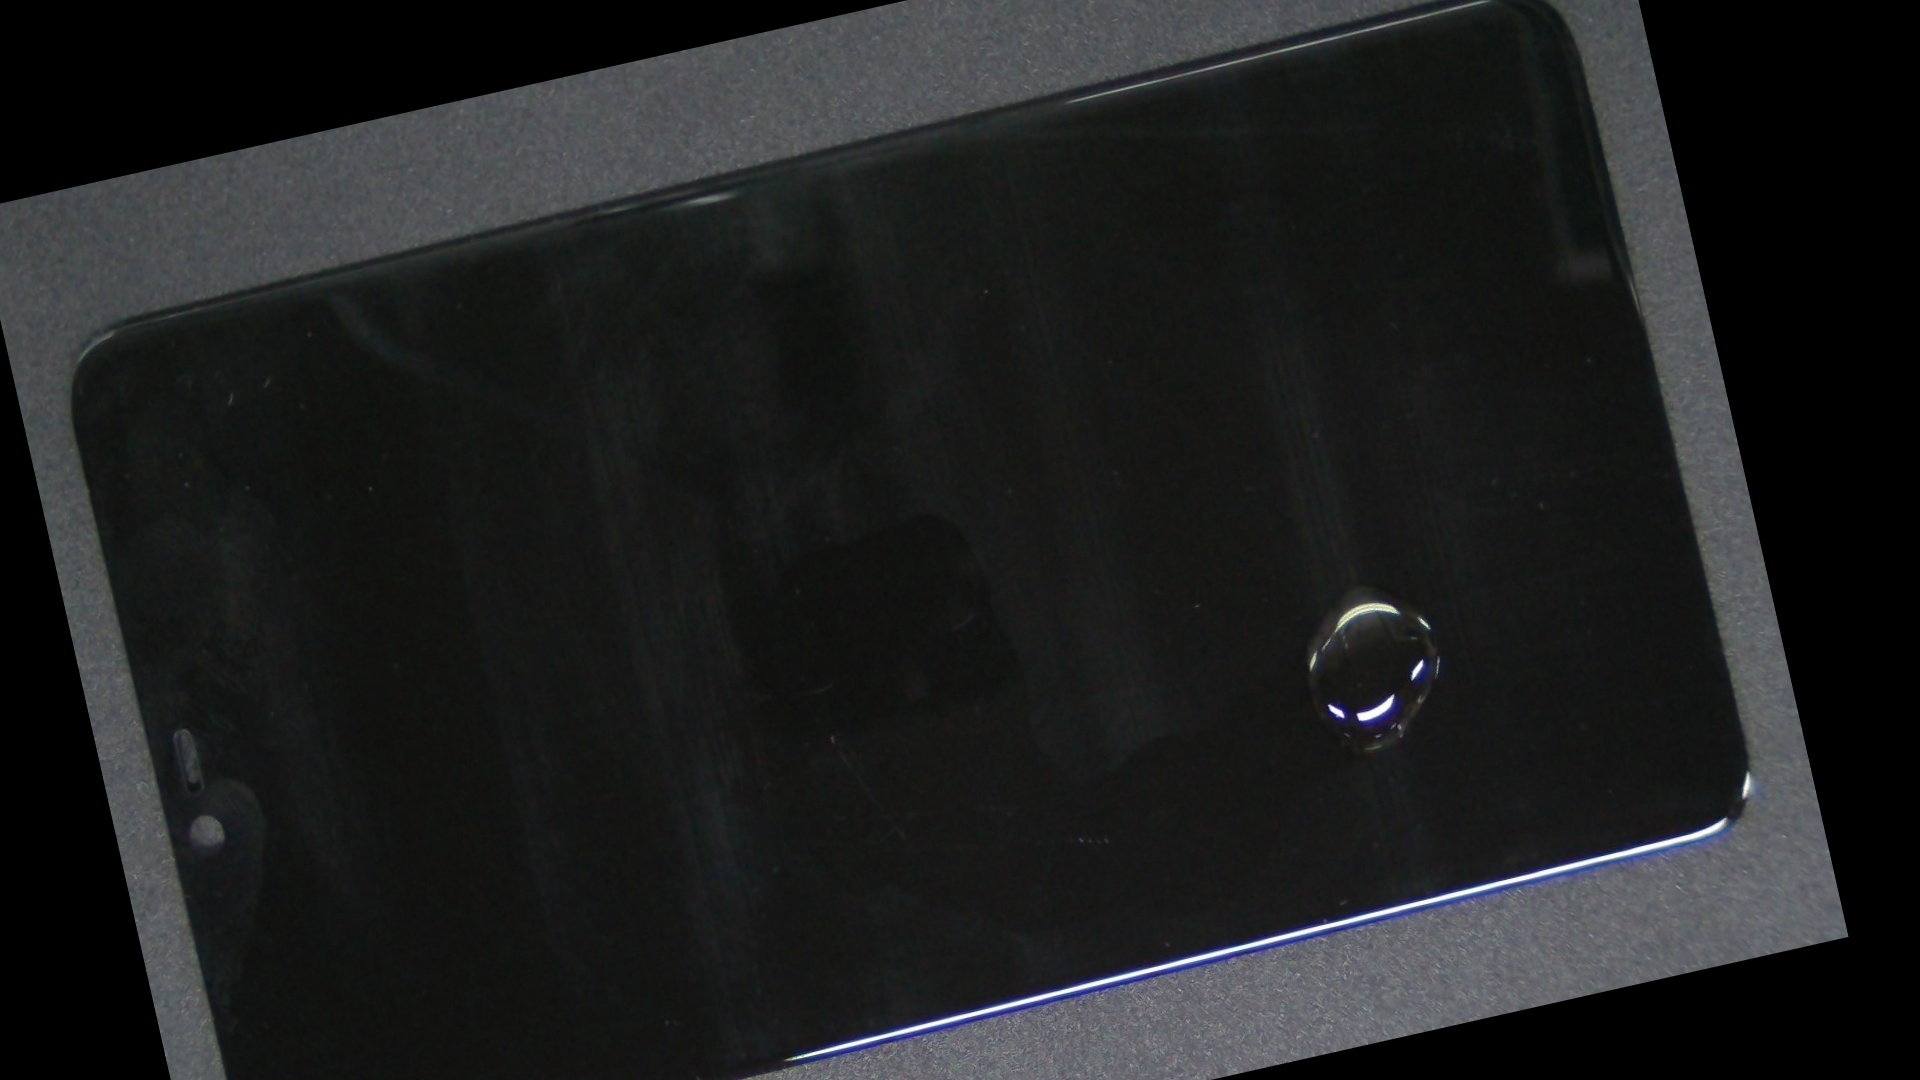oil: (666, 171, 1824, 1055)
